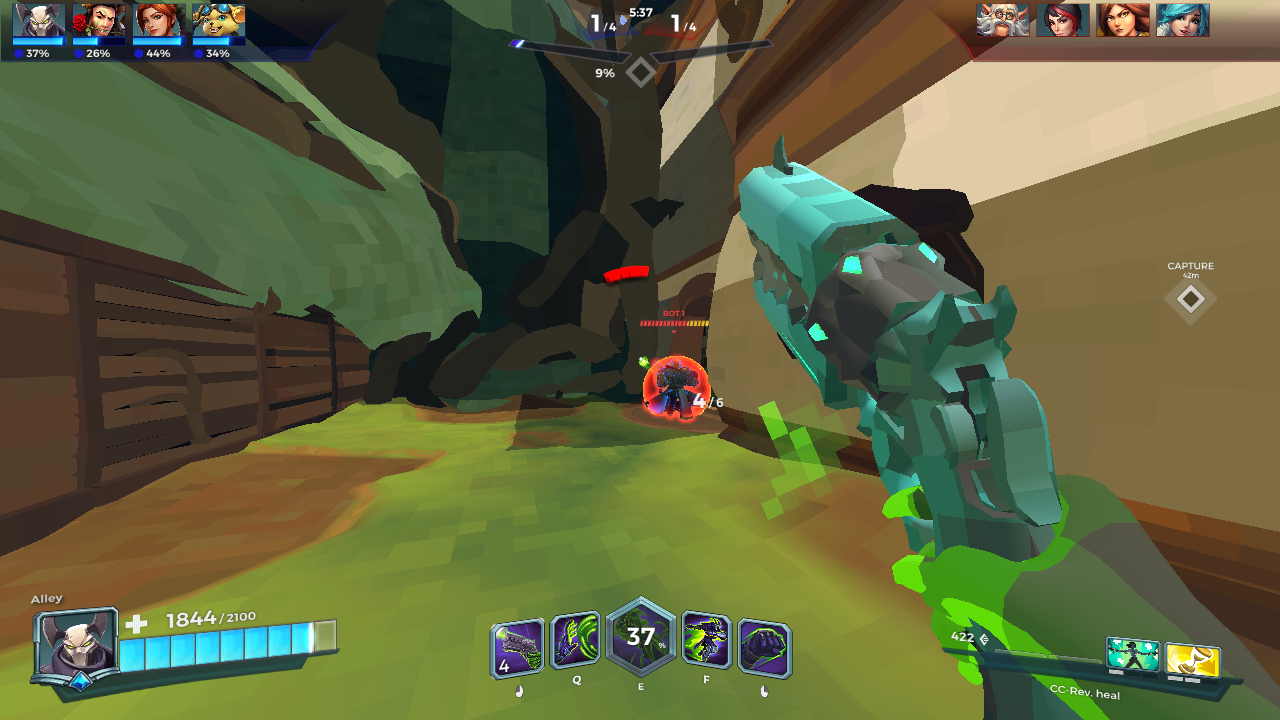model: (642, 352, 700, 421)
